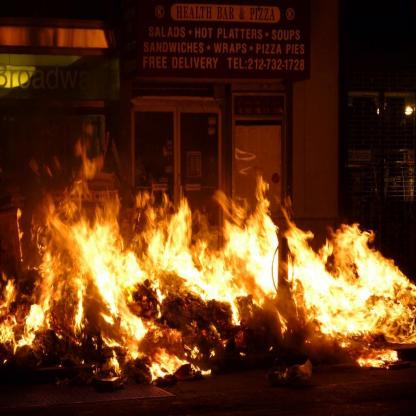fire: (11, 132, 414, 385)
